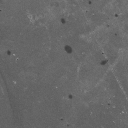corrosion: (63, 44, 74, 54), (59, 17, 67, 25), (100, 59, 109, 65), (6, 50, 12, 57), (68, 94, 73, 100), (88, 1, 93, 6), (114, 13, 118, 18), (114, 33, 117, 36)
